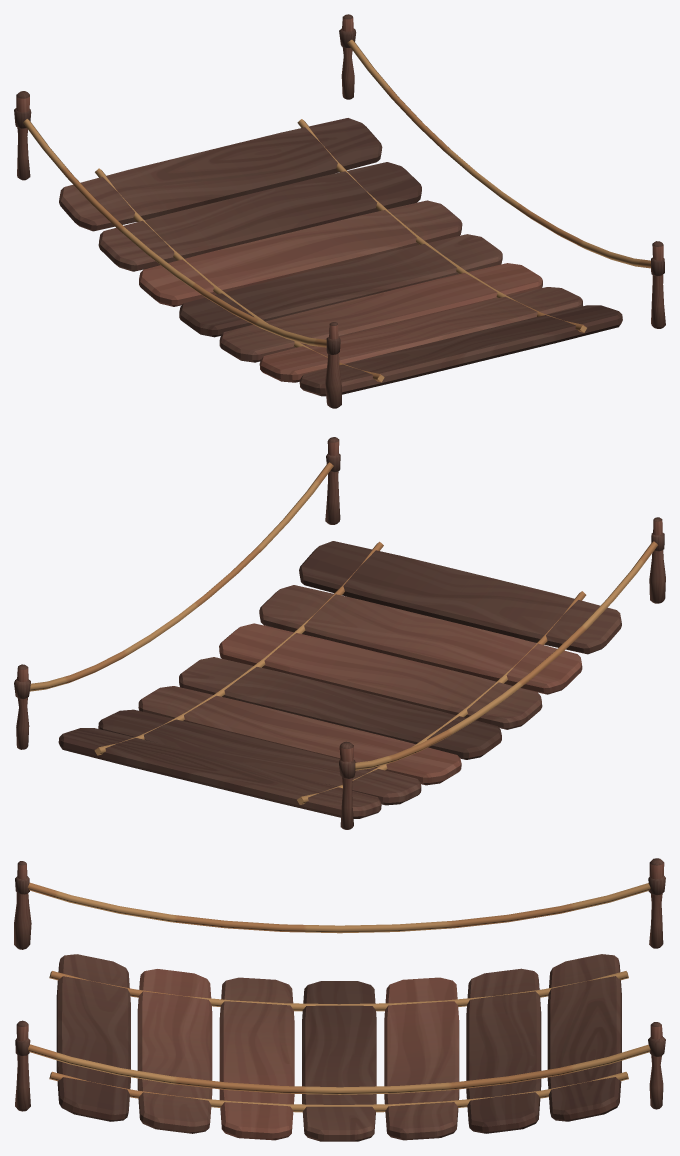
Rendered from Puente_2.fbx.
3 renders of one model, top to bottom at view 1: azimuth 30°, elevation 25°; view 2: azimuth 150°, elevation 25°; view 3: azimuth 270°, elevation 25°, orthographic. The views are drawn at different scales.
Parts seen in each view (by area): view 1: Tablones_p2, CurvaSogas.2_1_, Palos_puente2, CurvaSogas2_2; view 2: Tablones_p2, CurvaSogas.2_1_, Palos_puente2, CurvaSogas2_2; view 3: Tablones_p2, CurvaSogas.2_1_, Palos_puente2, CurvaSogas2_2.
Part boxes in pixels (x1=…): Tablones_p2: x1=59, y1=118, x2=622, y2=396; CurvaSogas.2_1_: x1=23, y1=39, x2=650, y2=347; Palos_puente2: x1=14, y1=14, x2=665, y2=408; CurvaSogas2_2: x1=95, y1=119, x2=586, y2=382; Tablones_p2: x1=58, y1=541, x2=621, y2=818; CurvaSogas.2_1_: x1=30, y1=462, x2=657, y2=770; Palos_puente2: x1=14, y1=437, x2=665, y2=829; CurvaSogas2_2: x1=94, y1=541, x2=586, y2=804; Tablones_p2: x1=56, y1=954, x2=621, y2=1141; CurvaSogas.2_1_: x1=27, y1=882, x2=650, y2=1094; Palos_puente2: x1=14, y1=858, x2=665, y2=1111; CurvaSogas2_2: x1=49, y1=971, x2=628, y2=1112.
Size of the model in its own units: 1172 by 409 by 1907.
